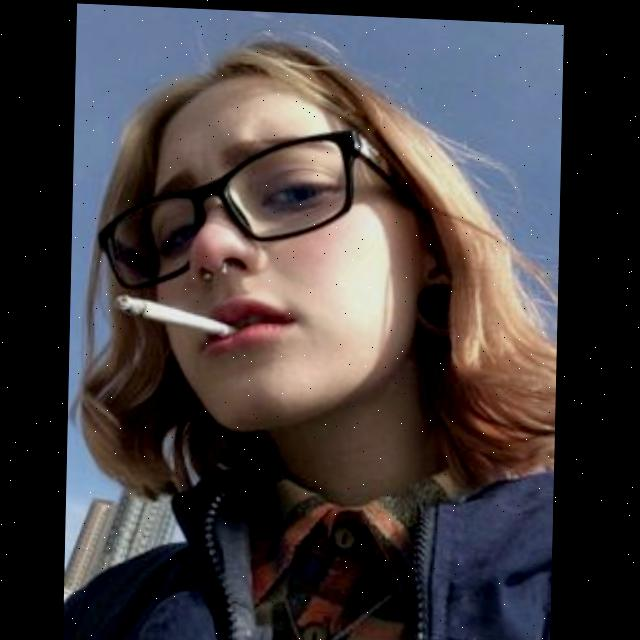cigarette: (118, 294, 235, 335)
